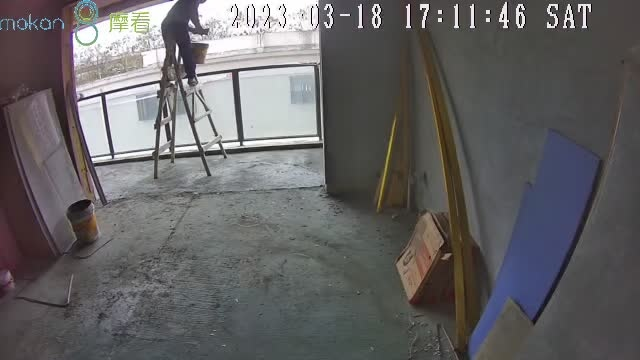people: (161, 1, 207, 92)
window: (74, 4, 319, 144)
